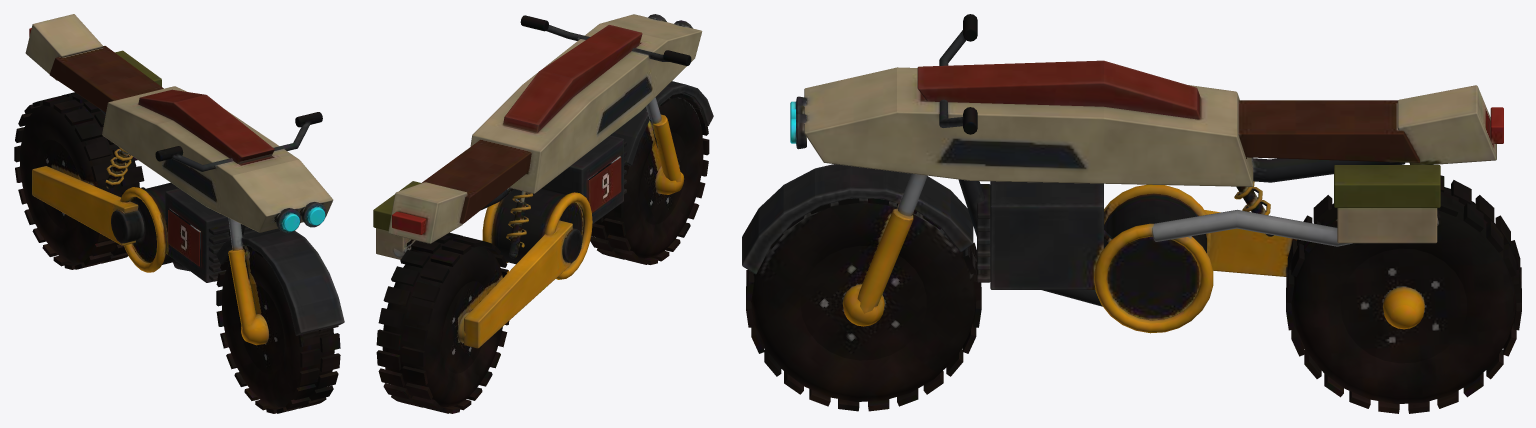
Rendered from bike.glb.
3 renders of one model, left to right at view 1: azimuth 30°, elevation 25°; view 2: azimuth 150°, elevation 25°; view 3: azimuth 270°, elevation 25°, orthographic. The views are drawn at different scales.
Parts seen in each view (by area): view 1: bike; view 2: bike; view 3: bike.
Part boxes in pixels (x1,y1,x2,y2): bike: (14,14,344,413); bike: (373,14,713,413); bike: (742,14,1521,413).
Bounding box in the file's own units: 0.77 × 1.1 × 2.34.
1 material, 1 textured.
